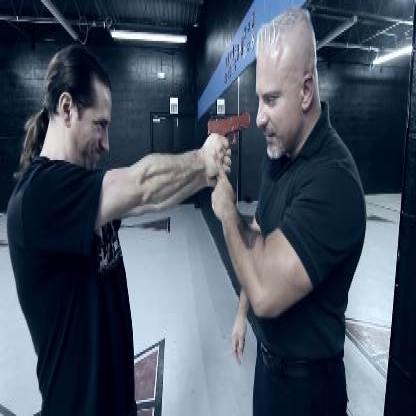pistol: (206, 109, 250, 147)
